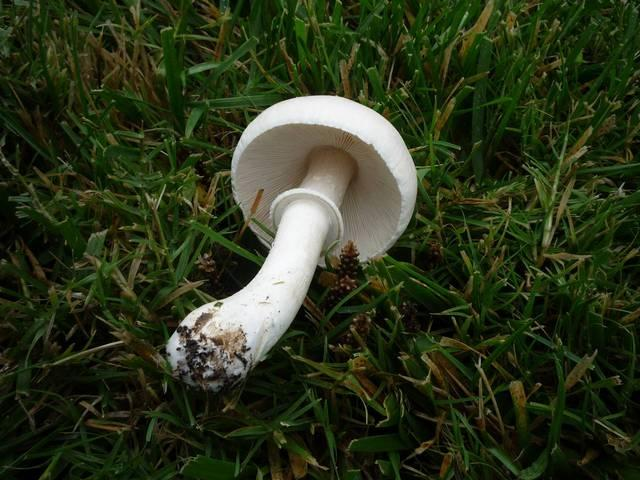poisonous_mushroom: (163, 92, 418, 404)
